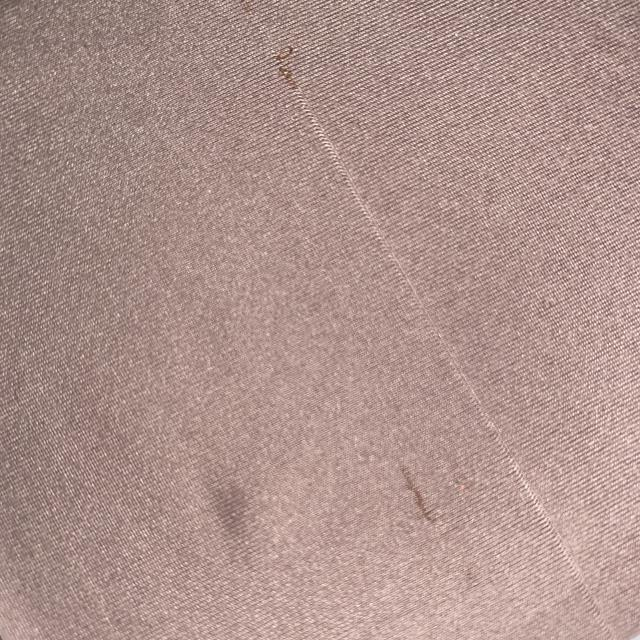Line: (272, 43, 623, 640)
